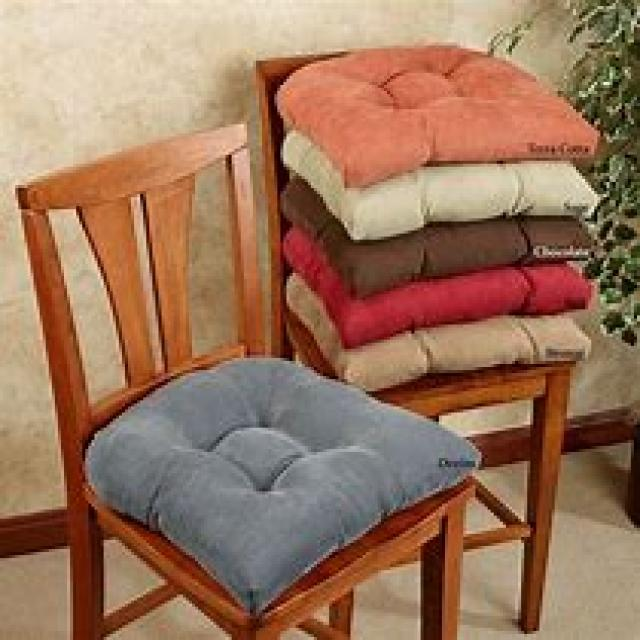chair: (12, 121, 479, 637)
